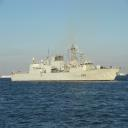Fragata: (12, 31, 122, 84)
